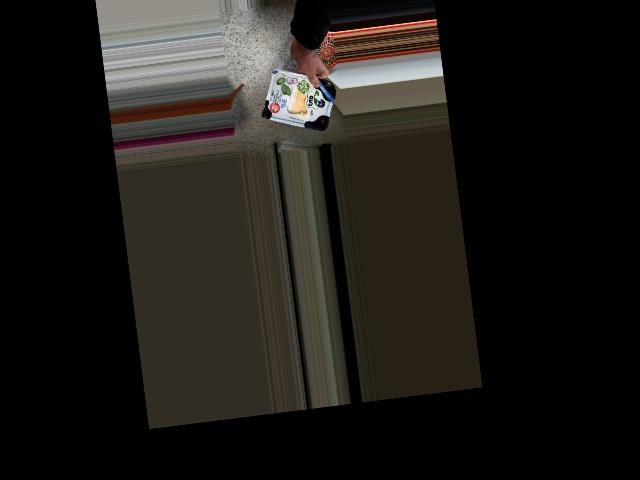cheese: (264, 70, 331, 128)
